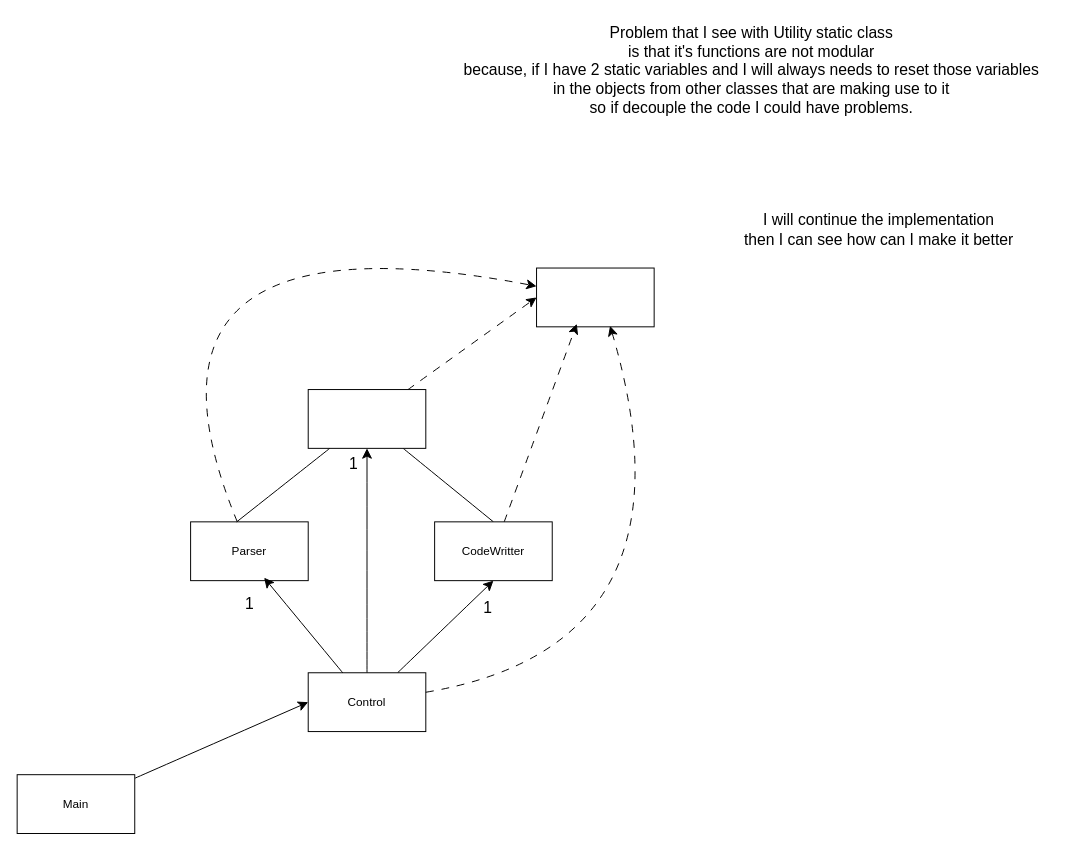
Image size: 1084x851. Some labels were removed from this diagram. The shapes that lost their labels are listed below. From the top down, each one's box as (x1, y1, x2, y2) in pixels, then its label:
(536, 267, 654, 327): Utility static
(307, 389, 426, 448): MemoryManager
